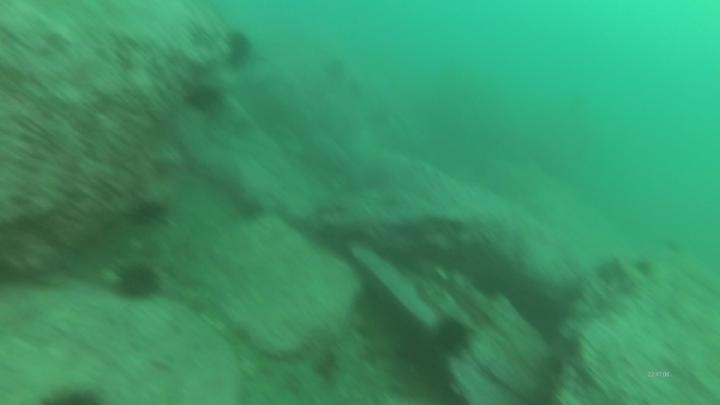echinus: (112, 260, 163, 303), (431, 314, 473, 358), (182, 79, 226, 117), (37, 381, 106, 405), (222, 27, 256, 71), (320, 53, 349, 83), (631, 255, 657, 280)
